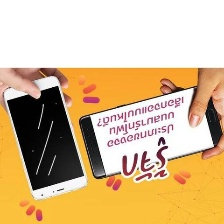phone: (75, 81, 224, 181), (0, 73, 89, 202)
